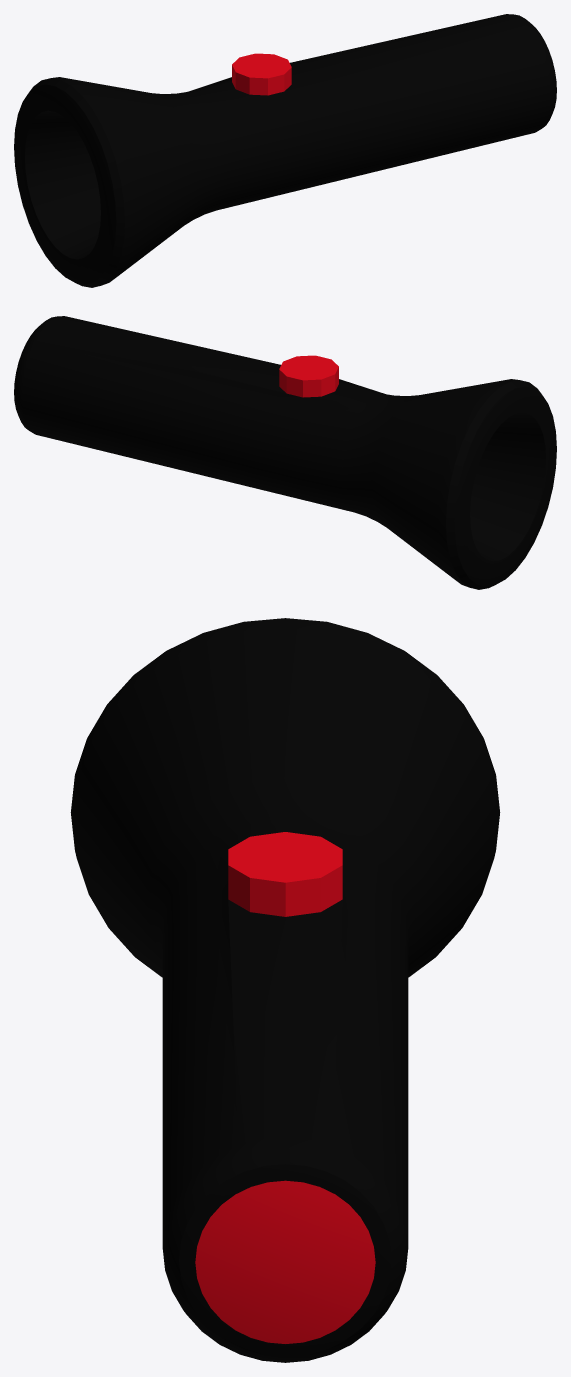
The model's file is Torch.fbx.
3 renders of one model, top to bottom at view 1: azimuth 30°, elevation 25°; view 2: azimuth 150°, elevation 25°; view 3: azimuth 270°, elevation 25°, orthographic. The views are drawn at different scales.
Visible parts, largest first — view 1: Cylinder; view 2: Cylinder; view 3: Cylinder.
Boxes of the visible parts, x1,y1,x2,y2 form: Cylinder: (14,14,556,287); Cylinder: (14,316,556,589); Cylinder: (70,618,500,1362).
Bounding box in the file's own units: 883 × 350 × 350.
